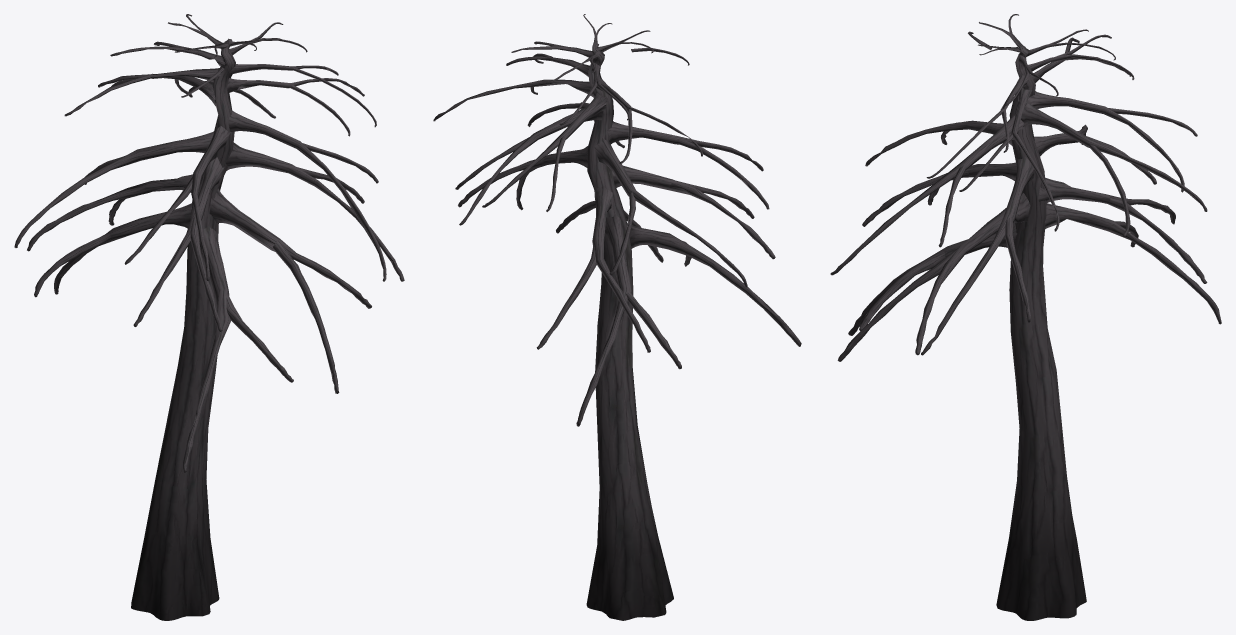
Rendered from DeadTree_4.glb.
3 views of the same model, side by side, from view 1: azimuth 30°, elevation 25°; view 2: azimuth 150°, elevation 25°; view 3: azimuth 270°, elevation 25° (orthographic). The views are drawn at different scales.
Parts seen in each view (by area): view 1: DeadTree_4; view 2: DeadTree_4; view 3: DeadTree_4.
Boxes of the visible parts, <box> form: DeadTree_4: <box>14,14,404,620</box>; DeadTree_4: <box>433,14,801,620</box>; DeadTree_4: <box>830,14,1221,620</box>.
Bounding box in the file's own units: 7.96 × 12.77 × 7.72.
Materials: 1 (1 with a texture image).
